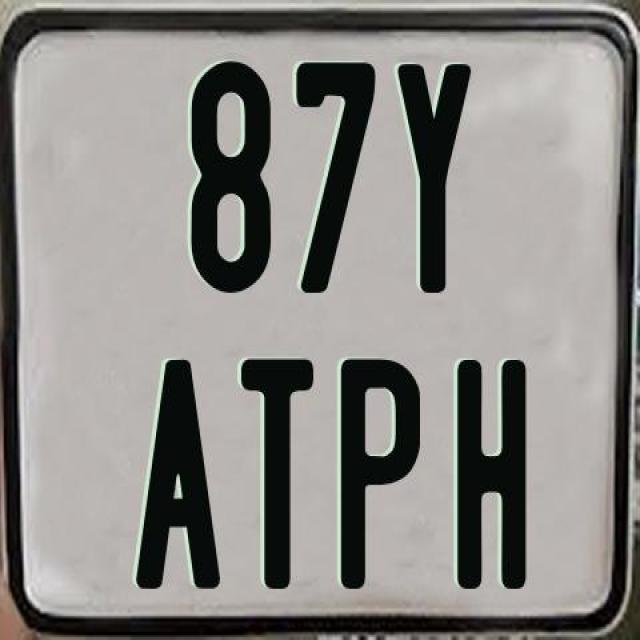7: (292, 58, 376, 296)
8: (190, 56, 278, 298)
A: (134, 356, 225, 590)
H: (454, 357, 526, 596)
P: (338, 355, 421, 592)
T: (240, 358, 312, 594)
Y: (396, 63, 478, 300)
